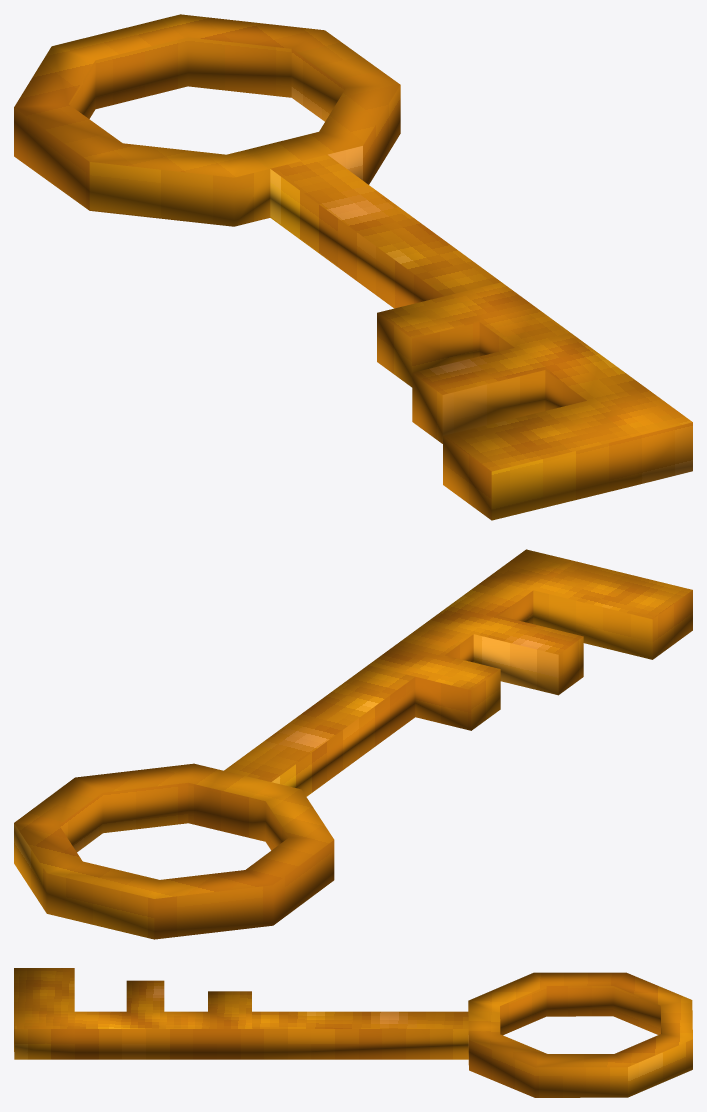
The model's file is key.gltf.
3 views of the same model, one above another, from view 1: azimuth 30°, elevation 25°; view 2: azimuth 150°, elevation 25°; view 3: azimuth 270°, elevation 25° (orthographic). The views are drawn at different scales.
Parts seen in each view (by area): view 1: Key; view 2: Key; view 3: Key.
Part boxes in pixels (x1,y1,x2,y2): Key: [14, 14, 692, 520]; Key: [14, 549, 692, 939]; Key: [14, 968, 692, 1097].
Bounding box in the file's own units: 0.3802 × 0.0543 × 1.1.
1 material, 1 textured.
